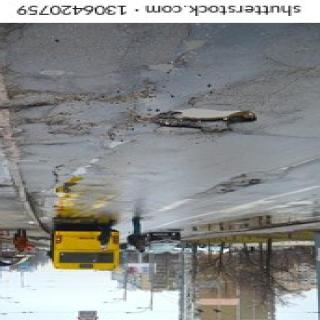pothole: (150, 107, 257, 127)
